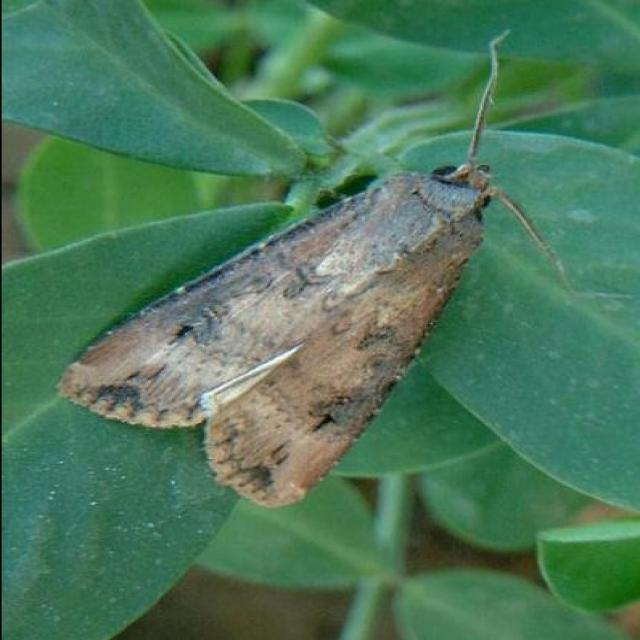black cutworm: (52, 156, 507, 511)
